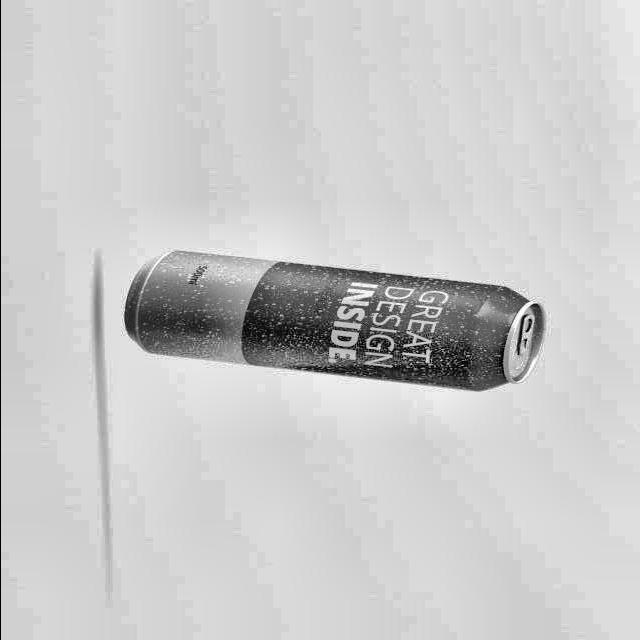litter: (113, 246, 552, 402)
